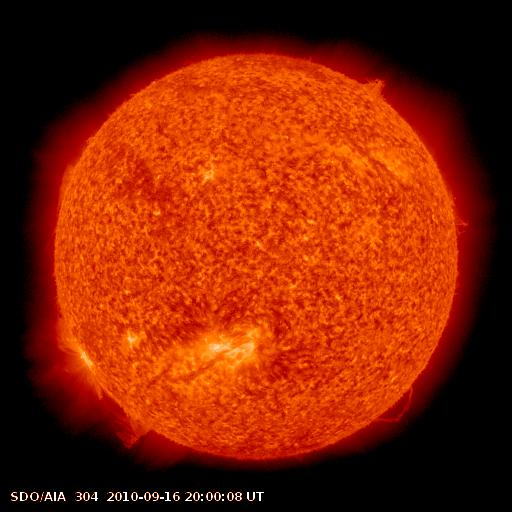prominence: (98, 396, 217, 463), (49, 131, 102, 221), (363, 377, 425, 434), (348, 62, 398, 110)
